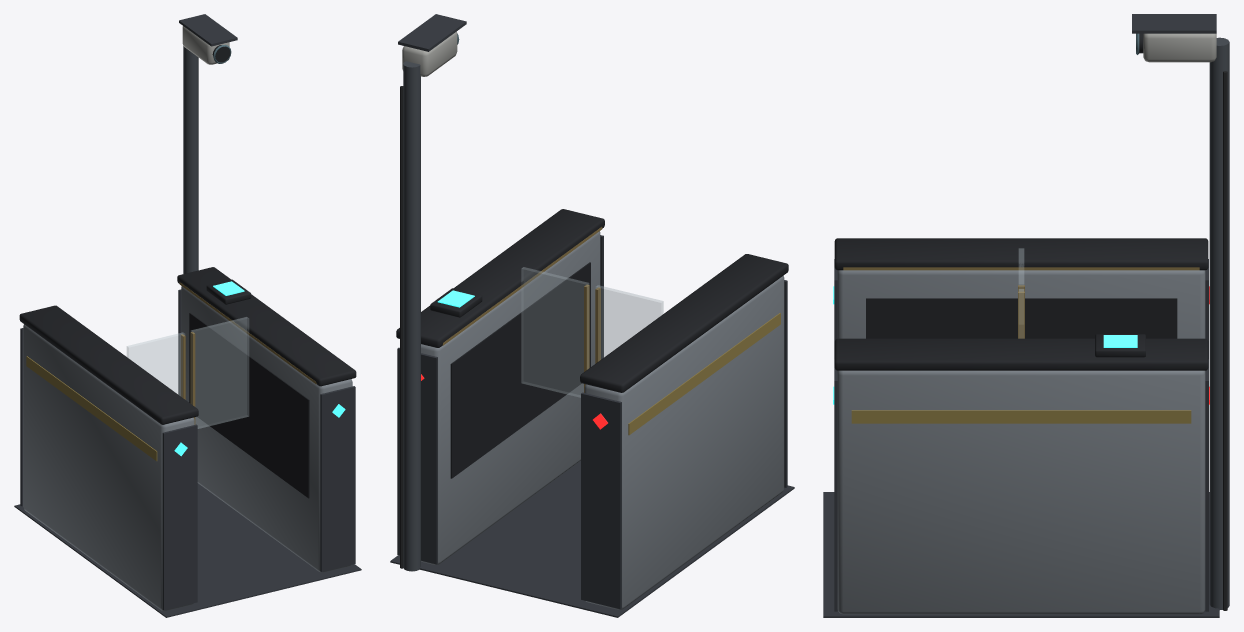
Rendered from turnstile.glb.
3 renders of one model, left to right at view 1: azimuth 30°, elevation 25°; view 2: azimuth 150°, elevation 25°; view 3: azimuth 270°, elevation 25°, orthographic. The views are drawn at different scales.
Parts seen in each view (by area): view 1: Body, FlapR, FlapL; view 2: Body, FlapR, FlapL; view 3: Body.
Part boxes in pixels (box(x1,y1,x2,y2)): Body: box(14, 14, 361, 617); FlapR: box(190, 317, 248, 428); FlapL: box(127, 332, 185, 399); Body: box(390, 14, 794, 617); FlapR: box(521, 267, 589, 397); FlapL: box(595, 285, 663, 363); Body: box(823, 14, 1229, 617).
Size of the model in its own units: 1.04 by 2.28 by 1.43.
